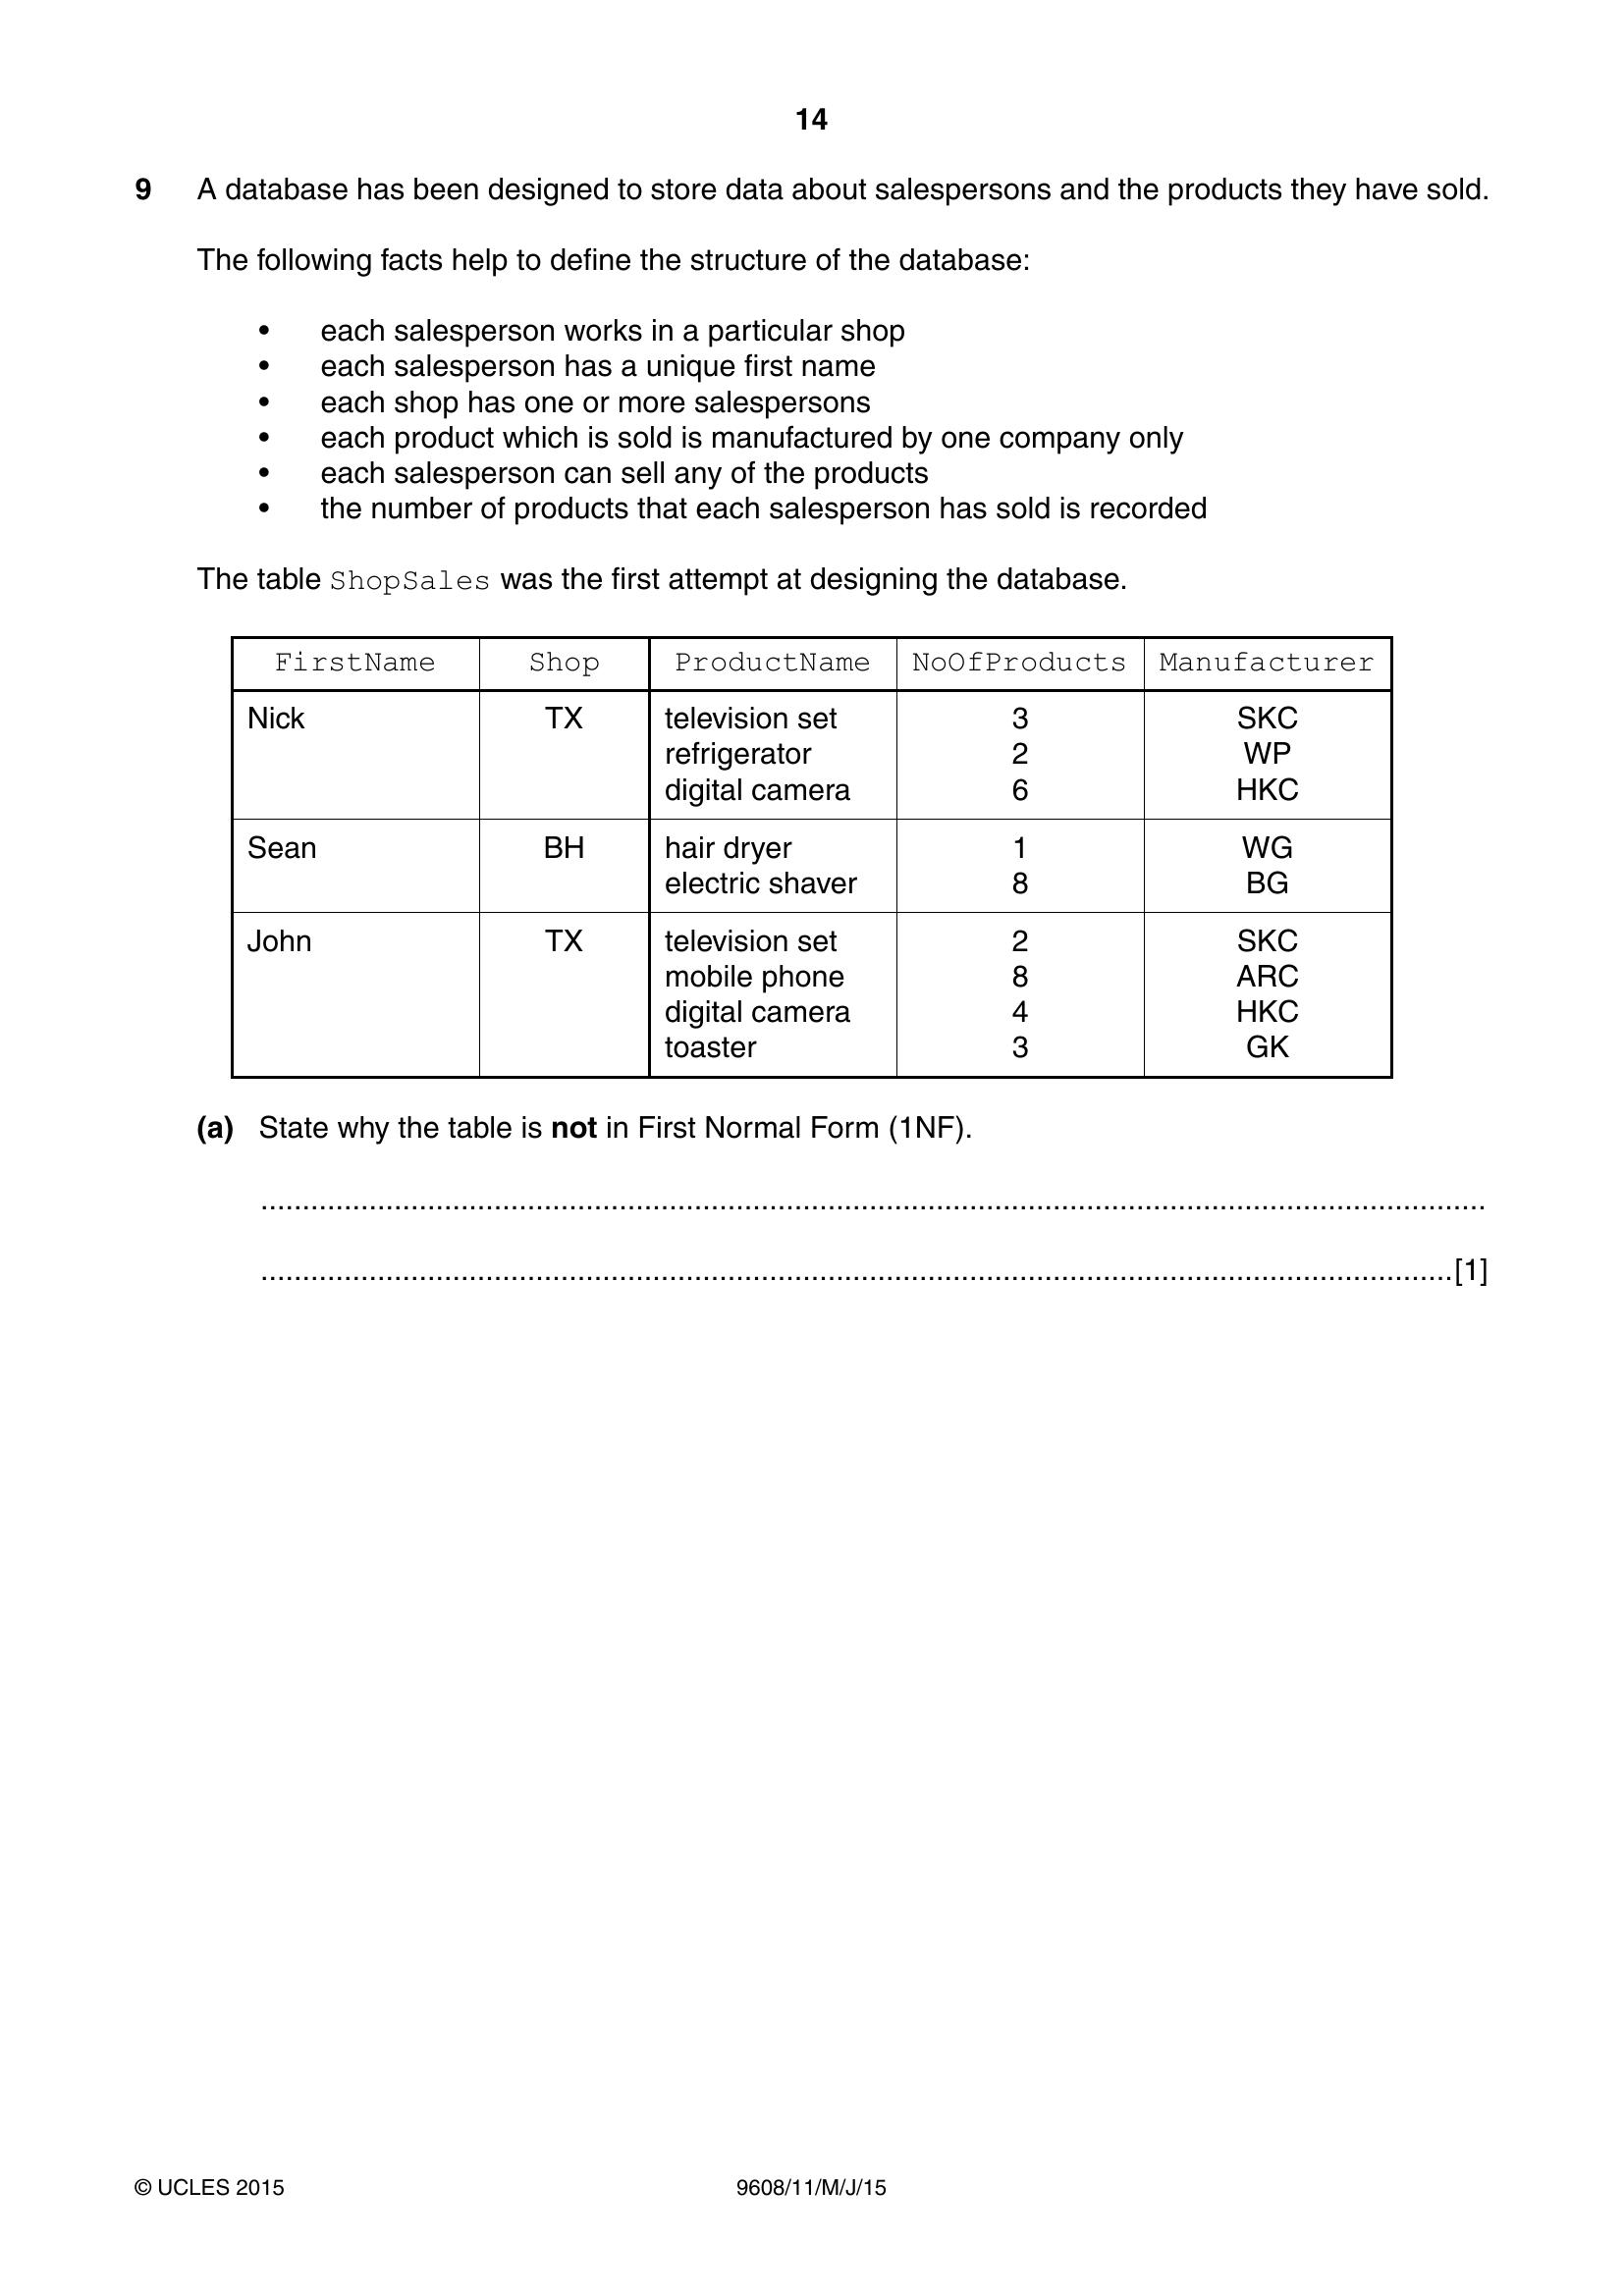question: (18, 155, 1624, 1349)
